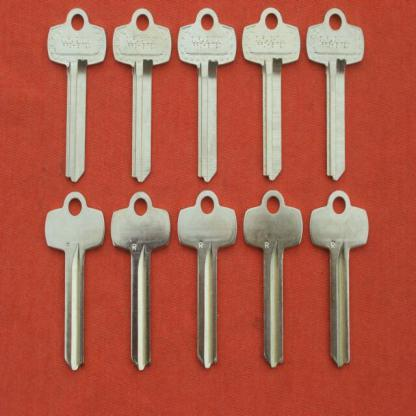key: (43, 9, 368, 365)
